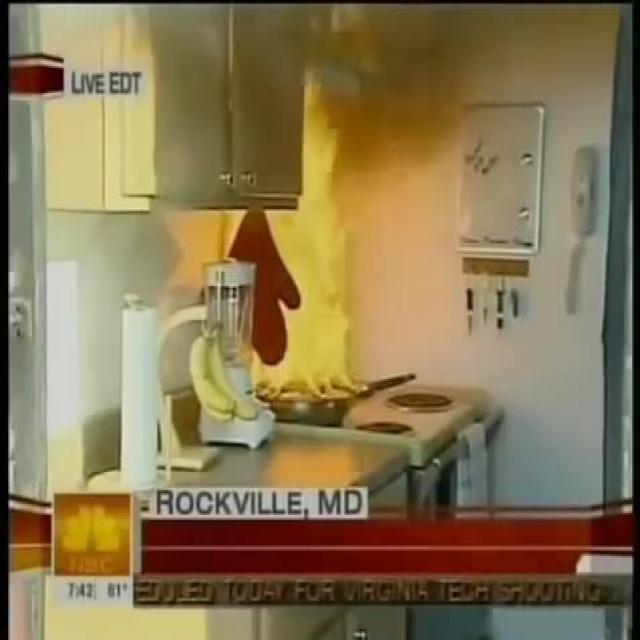fire: (219, 107, 406, 397)
